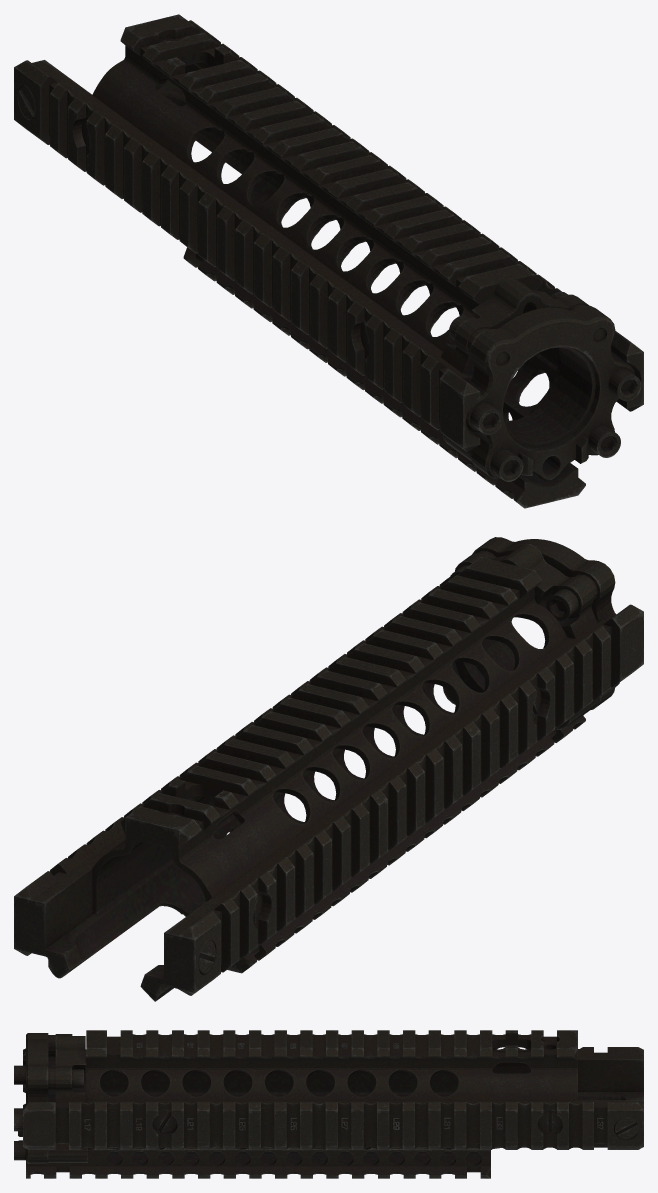
3 views of the same model, one above another, from view 1: azimuth 30°, elevation 25°; view 2: azimuth 150°, elevation 25°; view 3: azimuth 270°, elevation 25° (orthographic). The views are drawn at different scales.
Parts seen in each view (by area): view 1: TW_5c9a26332e2216001219ea70_PZ_Import; view 2: TW_5c9a26332e2216001219ea70_PZ_Import; view 3: TW_5c9a26332e2216001219ea70_PZ_Import.
Part boxes in pixels (bbox=[...]): TW_5c9a26332e2216001219ea70_PZ_Import: bbox=[14, 14, 643, 508]; TW_5c9a26332e2216001219ea70_PZ_Import: bbox=[14, 537, 643, 1001]; TW_5c9a26332e2216001219ea70_PZ_Import: bbox=[14, 1030, 643, 1178].
Size of the model in its own units: 0.0325 by 0.1418 by 0.033.
1 material, 1 textured.
